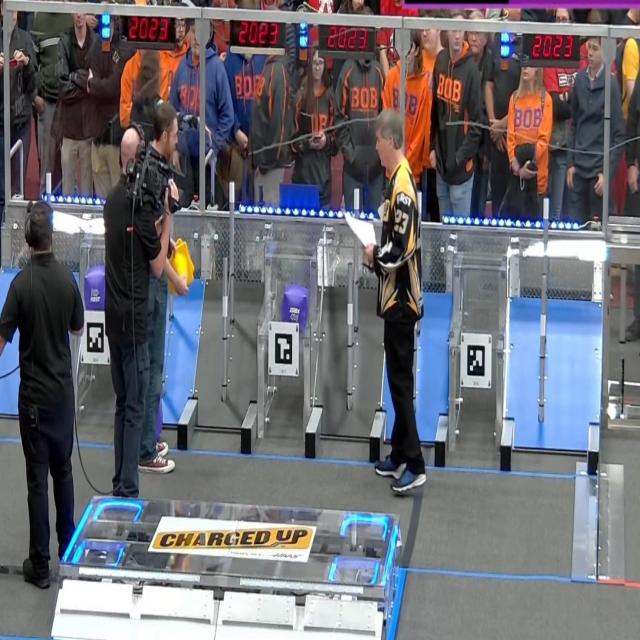frc_cone: (167, 238, 194, 296)
frc_cube: (283, 284, 307, 325), (84, 266, 107, 308)
